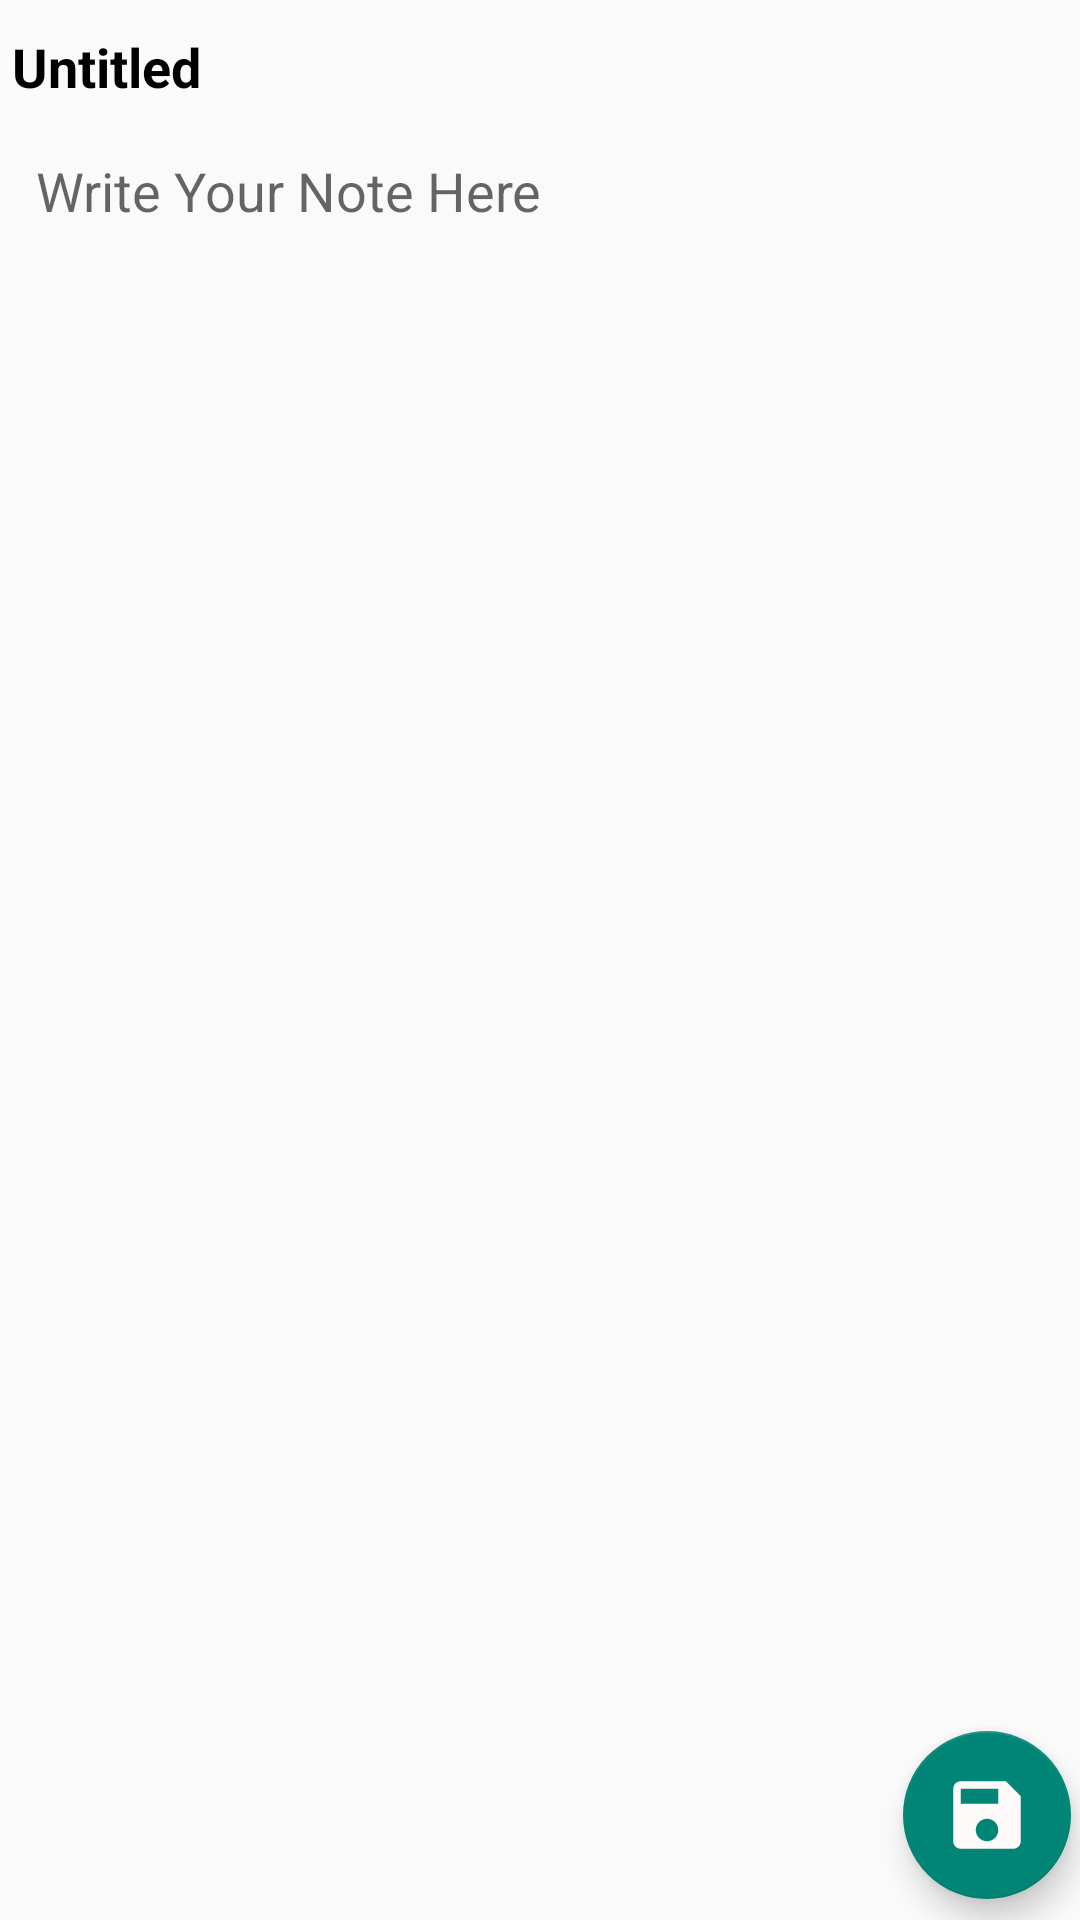

Icon bounding boxes for this 1080x1920 phone screenshot, format (x1, y1, x2, y2):
save: (903, 1731, 1071, 1899)
